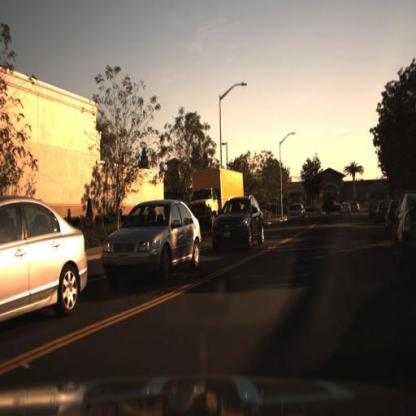car: (0, 196, 90, 326), (97, 194, 205, 280), (212, 194, 265, 245), (389, 187, 415, 277), (287, 196, 309, 226), (372, 198, 390, 228), (338, 199, 352, 220)
truck: (183, 164, 247, 226), (366, 179, 388, 219)
